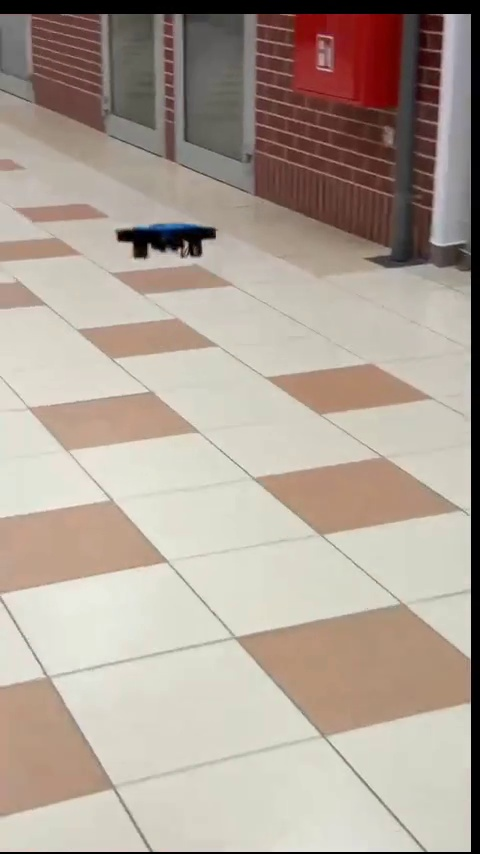drone: (114, 222, 218, 261)
